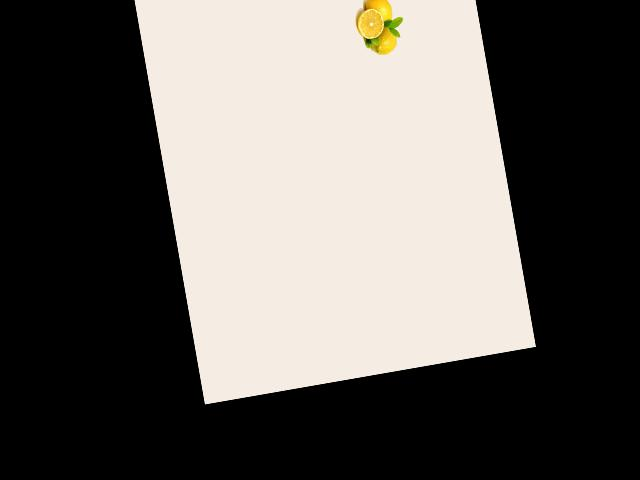lemon: (364, 21, 401, 59)
